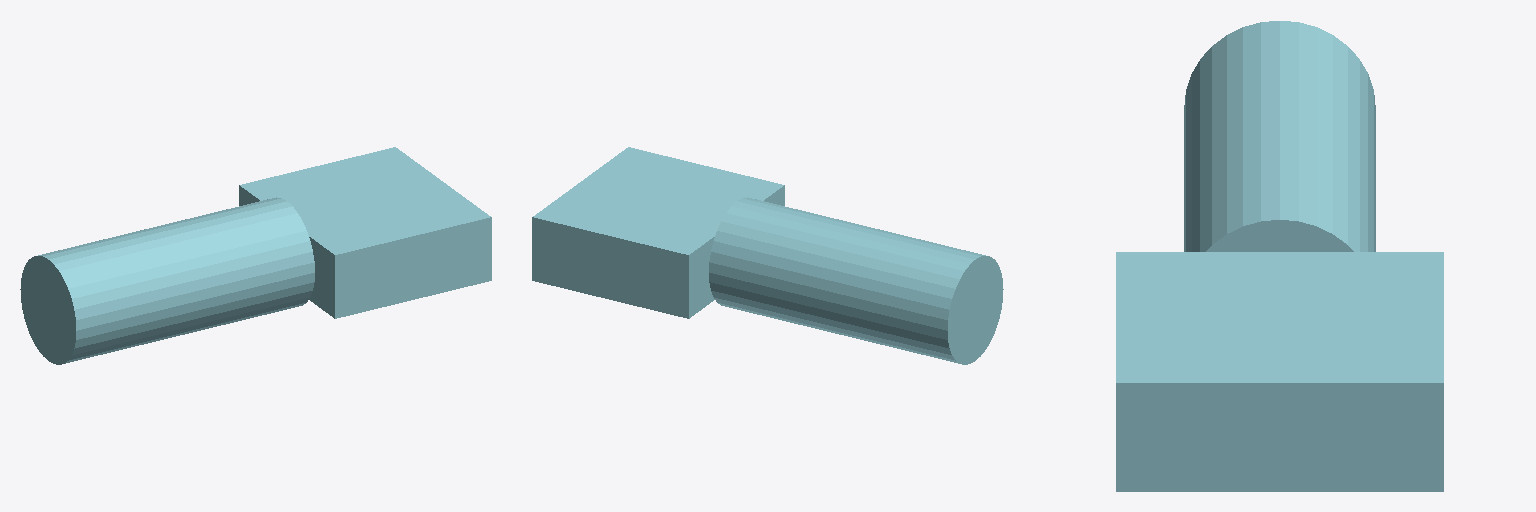
The robot description file, URDF, robot "cylinder_brush_v11013":
<?xml version="1.0"?>
<robot name="cylinder_brush_v11013">

  <link name="cylinder_brush_v11013">
    <!-- Handle -->
    <visual>
      <origin xyz="0 0 0" rpy="0 1.5707963267948966 0"/>
      <geometry>
        <cylinder length="0.11289514818917154" radius="0.0229414359628665"/>
      </geometry>
      <material name="material">
        <color rgba="0.639 0.847 0.882 1.0"/>
      </material>
    </visual>
    <collision>
      <origin xyz="0 0 0" rpy="0 1.5707963267948966 0"/>
      <geometry>
        <cylinder length="0.11289514818917154" radius="0.0229414359628665"/>
      </geometry>
    </collision>

    <!-- Head -->
    <visual>
      <origin xyz="0.09343025926008766 0 0" rpy="0 0 0"/>
      <geometry>
        <box size="0.07396537033100378 0.07857096677617091 0.028801002164671047"/>
      </geometry>
      <material name="material">
        <color rgba="0.639 0.847 0.882 1.0"/>
      </material>
    </visual>
    <collision>
      <origin xyz="0.09343025926008766 0 0" rpy="0 0 0"/>
      <geometry>
        <box size="0.07396537033100378 0.07857096677617091 0.028801002164671047"/>
      </geometry>
    </collision>

    <inertial>
      <density value="400.0"/>
    </inertial>
  </link>

</robot>

--- What the picture shows (computed from the rendered views, not written in the file) ---
Views: 3 orthographic renders of the robot side by side, from view 1: azimuth 30°, elevation 25°; view 2: azimuth 150°, elevation 25°; view 3: azimuth 270°, elevation 25°.
Model cylinder_brush_v11013 with 1 links and 0 joints (none), rooted at cylinder_brush_v11013, posed all joints at 0.
Links seen in each view (by area): view 1: cylinder_brush_v11013; view 2: cylinder_brush_v11013; view 3: cylinder_brush_v11013.
Boxes of the visible links, box(x1,y1,x2,y2) form: cylinder_brush_v11013: box(20, 147, 491, 364); cylinder_brush_v11013: box(532, 147, 1003, 364); cylinder_brush_v11013: box(1116, 21, 1443, 491).
Size in the robot's own frame: 0.1869 by 0.0786 by 0.0459 metres.
Geometry: primitives only (box / cylinder / sphere), no mesh files.
